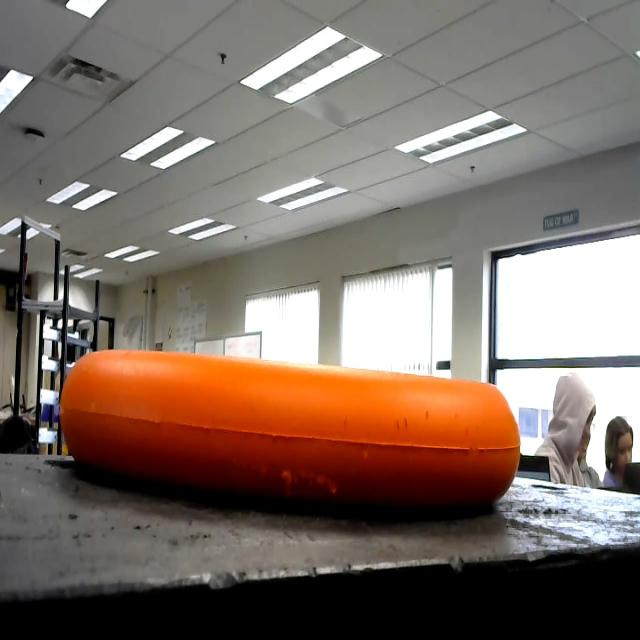note: (48, 333, 528, 549)
